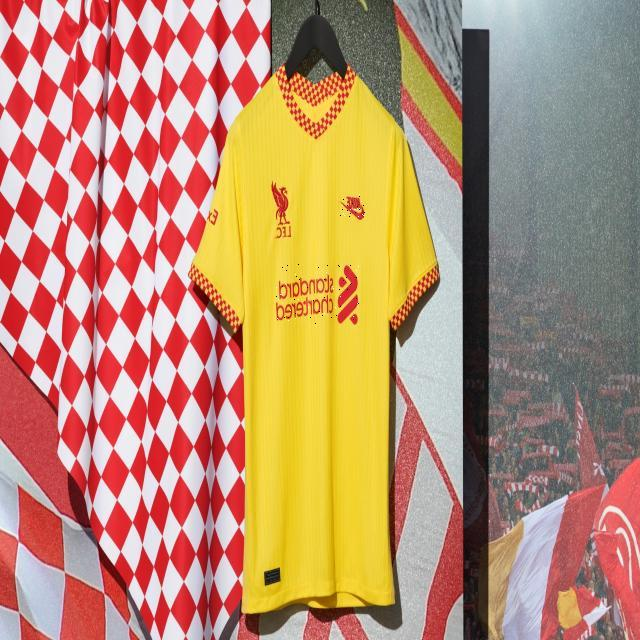Nike: (339, 194, 365, 218)
Standard Chartered: (276, 263, 360, 325)
